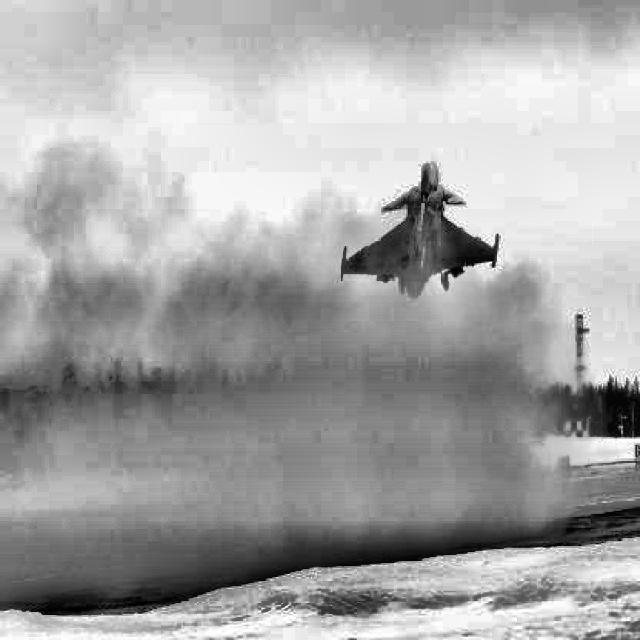JAS39: (338, 156, 500, 298)
